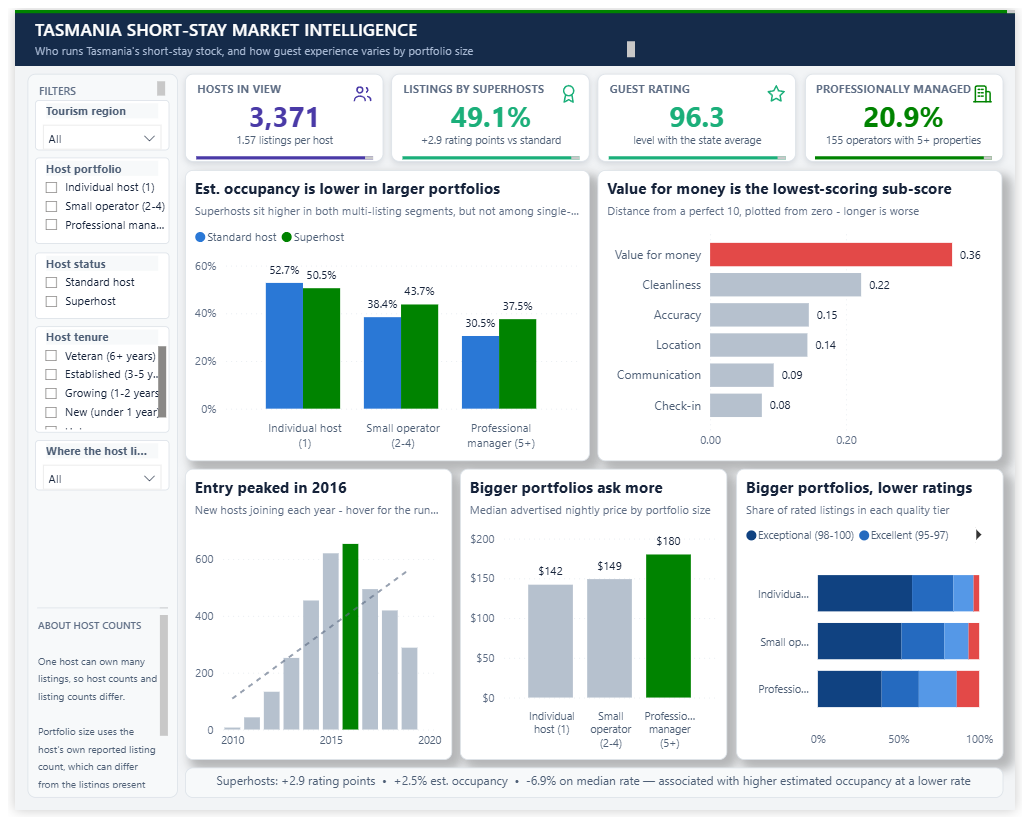

This screenshot's page, from the dashboard's own definition file:
{"tool":"powerbi","page":{"name":"Hosts & guest experience","canvas":[1000,800],"ordinal":2},"visuals":[{"type":"textbox","box":[0,0,1000,56],"z":35},{"type":"textbox","box":[0,0,1000,3],"z":36},{"type":"textbox","box":[12,64,150,724],"z":37},{"type":"textbox","box":[22,597,130,1],"z":38},{"type":"textbox","box":[170,64,198.5,88],"z":39},{"type":"textbox","box":[181,146,176.5,3],"z":40},{"type":"textbox","box":[376.5,64,198.5,88],"z":41},{"type":"textbox","box":[387.5,146,176.5,3],"z":42},{"type":"textbox","box":[583,64,198.5,88],"z":43},{"type":"textbox","box":[594,146,176.5,3],"z":44},{"type":"textbox","box":[789.5,64,198.5,88],"z":45},{"type":"textbox","box":[800.5,146,176.5,3],"z":46},{"type":"textbox","box":[20,7,600,22],"z":156},{"type":"textbox","box":[20,31,600,16],"z":157},{"type":"textbox","box":[24,71,126,14],"z":158},{"type":"slicer","fields":{"Values":["Geography.Region"]},"box":[20,90,134,50],"z":159},{"type":"slicer","fields":{"Values":["Host.Host Segment"]},"box":[20,148,134,86],"z":160},{"type":"slicer","fields":{"Values":["Host.Superhost Status"]},"box":[20,242,134,66],"z":161},{"type":"slicer","fields":{"Values":["Host.Host Experience"]},"box":[20,316,134,106],"z":162},{"type":"slicer","fields":{"Values":["Host.Host Base"]},"box":[20,430,134,50],"z":163},{"type":"textbox","box":[22,605,130,173],"z":164},{"type":"card","title":"HOSTS IN VIEW","fields":{"Values":["Listing.Hosts in View"]},"box":[171,66,196.5,56],"z":165},{"type":"card","fields":{"Values":["Listing.KPI Hosts Context"]},"box":[171,123,196.5,21],"z":166},{"type":"image","box":[336.5,72,22,22],"z":167},{"type":"card","title":"LISTINGS BY SUPERHOSTS","fields":{"Values":["Listing.Superhost Share"]},"box":[377.5,66,196.5,56],"z":168},{"type":"card","fields":{"Values":["Listing.KPI Superhost Context"]},"box":[377.5,123,196.5,21],"z":169},{"type":"image","box":[543,72,22,22],"z":170},{"type":"card","title":"GUEST RATING","fields":{"Values":["Listing.Avg Guest Rating"]},"box":[584,66,196.5,56],"z":171},{"type":"card","fields":{"Values":["Listing.KPI Rating Context"]},"box":[584,123,196.5,21],"z":172},{"type":"image","box":[749.5,72,22,22],"z":173},{"type":"card","title":"PROFESSIONALLY MANAGED","fields":{"Values":["Listing.Professionally Managed Share"]},"box":[790.5,66,196.5,56],"z":174},{"type":"card","fields":{"Values":["Listing.KPI Managed Context"]},"box":[790.5,123,196.5,21],"z":175},{"type":"image","box":[956,72,22,22],"z":176},{"type":"clusteredColumnChart","title":"Est. occupancy is lower in larger portfolios","fields":{"Category":["Host.Host Segment"],"Series":["Host.Superhost Status"],"Y":["Listing.Est. Occupancy Rate"]},"box":[170,160,405,291],"z":177},{"type":"clusteredBarChart","title":"Value for money is the lowest-scoring sub-score","fields":{"Category":["Review Score.Score Type"],"Y":["Listing.Sub-score Shortfall"]},"box":[583,160,405,291],"z":178},{"type":"clusteredColumnChart","title":"Entry peaked in 2016","fields":{"Category":["Date.Year"],"Y":["Listing.New Hosts"]},"box":[170,459,267.3,291],"z":179},{"type":"clusteredColumnChart","title":"Bigger portfolios ask more","fields":{"Category":["Host.Host Segment"],"Y":["Listing.Median Nightly Price"]},"box":[445.3,459,267.3,291],"z":180},{"type":"hundredPercentStackedBarChart","title":"Bigger portfolios, lower ratings","fields":{"Category":["Host.Host Segment"],"Series":["Listing.Rating Tier"],"Y":["Listing.Total Listings"]},"box":[720.7,459,267.3,291],"z":181},{"type":"card","fields":{"Values":["Listing.Host Insight"]},"box":[170,758,818,30],"z":182},{"type":"actionButton","box":[626,15,84,26],"z":9500},{"type":"actionButton","box":[716,15,84,26],"z":9500},{"type":"actionButton","box":[806,15,84,26],"z":9500},{"type":"actionButton","box":[896,15,84,26],"z":9500},{"type":"actionButton","box":[20,490,134,28],"z":9500}]}

Visuals, with their boxes in screenshot pixels (x1, y1, x2, y2), scaled from the page's 1000x800 canvas onto the 1030x825 screenshot:
textbox: region(0, 0, 1029, 58)
textbox: region(0, 0, 1029, 3)
textbox: region(12, 66, 167, 813)
textbox: region(23, 616, 157, 617)
textbox: region(175, 66, 380, 157)
textbox: region(186, 151, 368, 154)
textbox: region(388, 66, 592, 157)
textbox: region(399, 151, 581, 154)
textbox: region(600, 66, 805, 157)
textbox: region(612, 151, 794, 154)
textbox: region(813, 66, 1018, 157)
textbox: region(825, 151, 1006, 154)
textbox: region(21, 7, 639, 30)
textbox: region(21, 32, 639, 48)
textbox: region(25, 73, 154, 88)
slicer - Geography.Region: region(21, 93, 159, 144)
slicer - Host.Host Segment: region(21, 153, 159, 241)
slicer - Host.Superhost Status: region(21, 250, 159, 318)
slicer - Host.Host Experience: region(21, 326, 159, 435)
slicer - Host.Host Base: region(21, 443, 159, 495)
textbox: region(23, 624, 157, 802)
"HOSTS IN VIEW" card: region(176, 68, 379, 126)
card - Listing.KPI Hosts Context: region(176, 127, 379, 148)
image: region(347, 74, 369, 97)
"LISTINGS BY SUPERHOSTS" card: region(389, 68, 591, 126)
card - Listing.KPI Superhost Context: region(389, 127, 591, 148)
image: region(559, 74, 582, 97)
"GUEST RATING" card: region(602, 68, 804, 126)
card - Listing.KPI Rating Context: region(602, 127, 804, 148)
image: region(772, 74, 795, 97)
"PROFESSIONALLY MANAGED" card: region(814, 68, 1017, 126)
card - Listing.KPI Managed Context: region(814, 127, 1017, 148)
image: region(985, 74, 1007, 97)
"Est. occupancy is lower in larger portfolios" clusteredColumnChart: region(175, 165, 592, 465)
"Value for money is the lowest-scoring sub-score" clusteredBarChart: region(600, 165, 1018, 465)
"Entry peaked in 2016" clusteredColumnChart: region(175, 473, 450, 773)
"Bigger portfolios ask more" clusteredColumnChart: region(459, 473, 734, 773)
"Bigger portfolios, lower ratings" hundredPercentStackedBarChart: region(742, 473, 1018, 773)
card - Listing.Host Insight: region(175, 782, 1018, 813)
actionButton: region(645, 15, 731, 42)
actionButton: region(737, 15, 824, 42)
actionButton: region(830, 15, 917, 42)
actionButton: region(923, 15, 1009, 42)
actionButton: region(21, 505, 159, 534)
